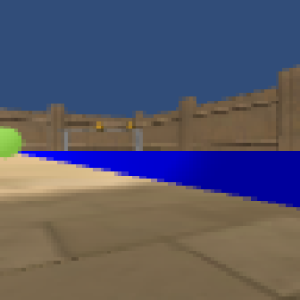goodGoal: (1, 123, 23, 161)
goodGoalMulti: (126, 119, 135, 131), (95, 122, 104, 132)
platform: (22, 151, 300, 209)
wall: (134, 129, 143, 151), (62, 129, 70, 152)
